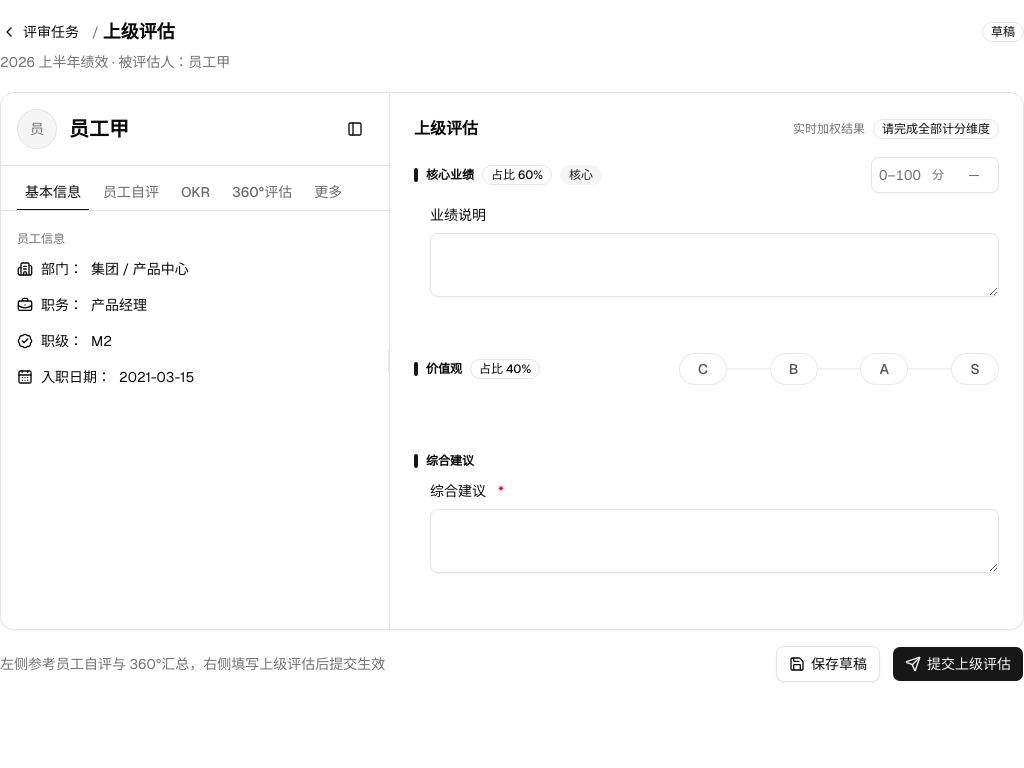
Test case: ManagerReviewFill 关键流程 › 展示当前 360°概览，并在评审明细中展开查看生效答卷
The image size is (1024, 768).
Click the tab "360°评估" at {"x": 262, "y": 192}, box [223,178,301,206]
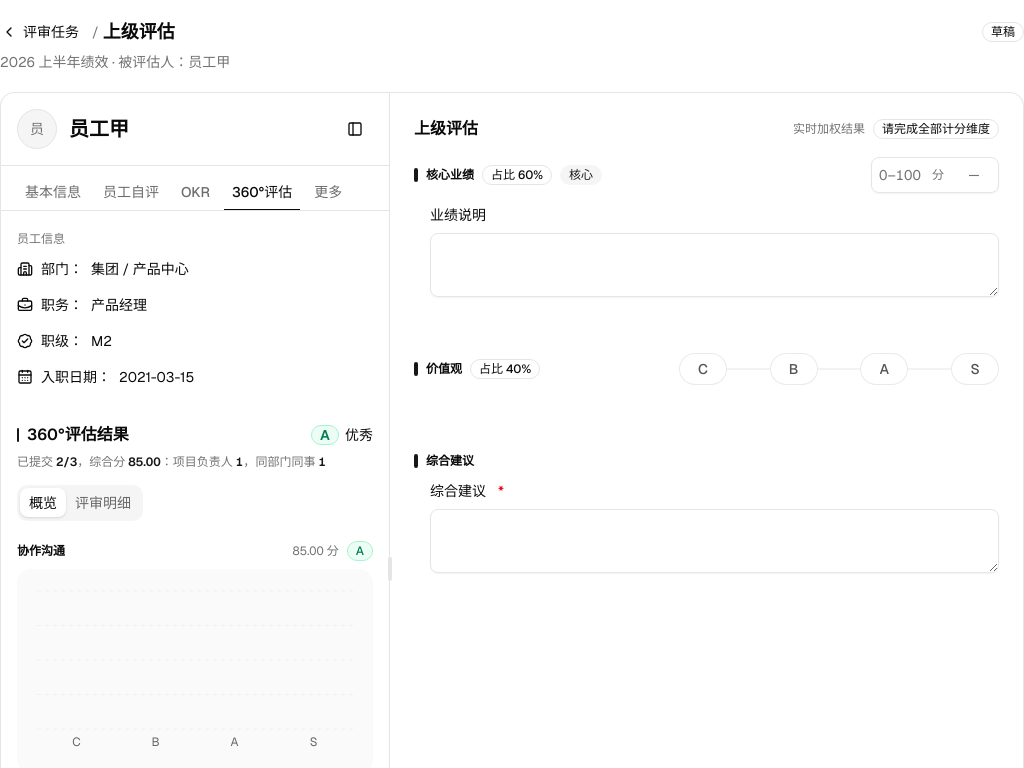
expect the heading "360°评估结果" is shown: met, box [27,423,129,447]
expect the text "已提交 2/3，综合分 85.00：项目负责人 1，同部门同事 1" is shown: met, box [17,453,373,472]
expect the text "2/3" is shown: met, box [56,454,77,470]
Click the tab "评审明细" at {"x": 103, "y": 502}, box [66,488,140,517]
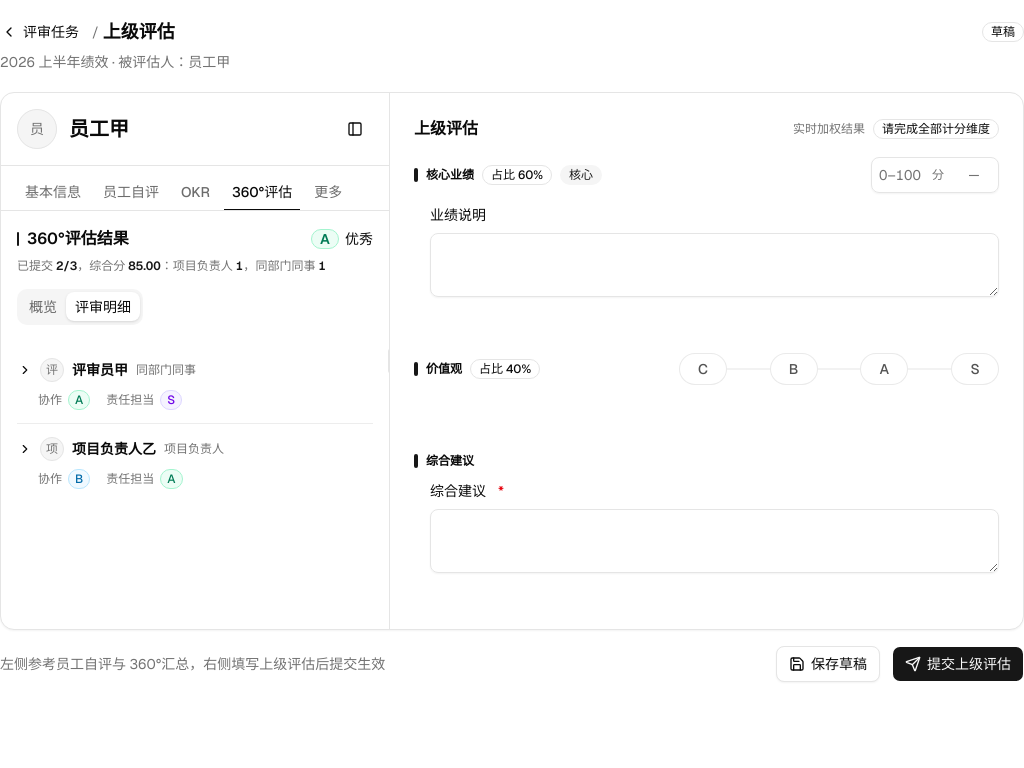
expect the text "评审员甲" is shown: met, box [72,360,128,380]
expect the text "项目负责人乙" is shown: met, box [72,438,156,458]
Click the button "项 项目负责人乙 项目负责人 协作 B 责任担当 A" at {"x": 114, "y": 448}, box [17,424,373,502]
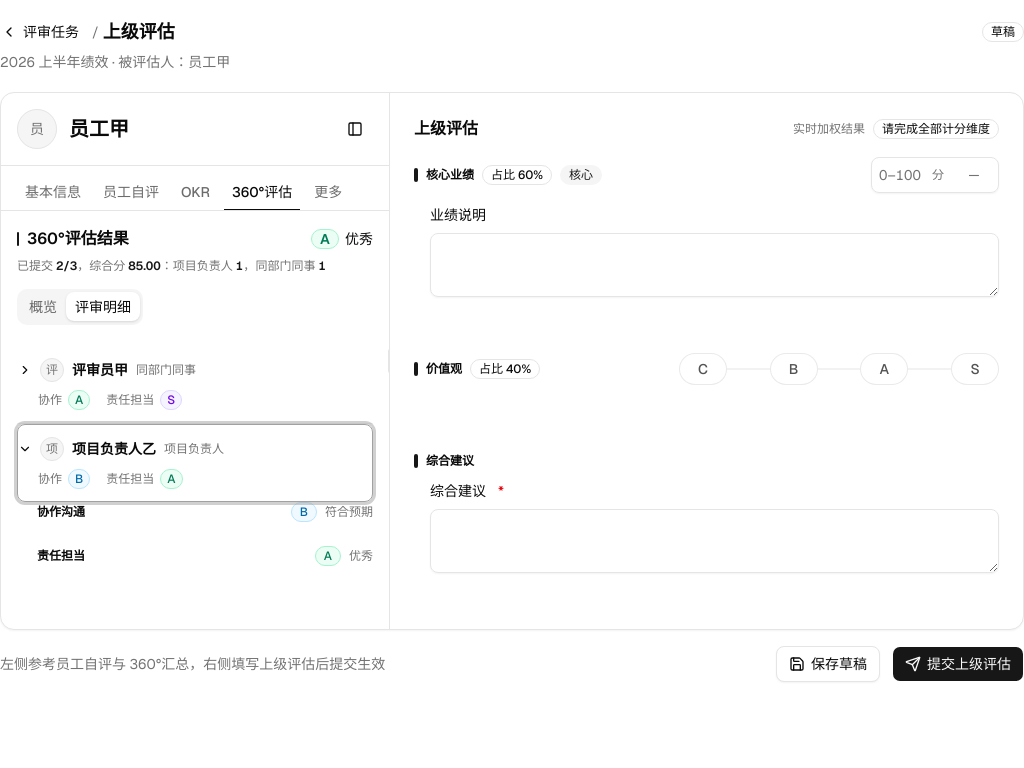
expect the heading "责任担当" is shown: met, box [37,548,85,564]
expect the heading "协作沟通" is shown: met, box [37,504,85,520]
